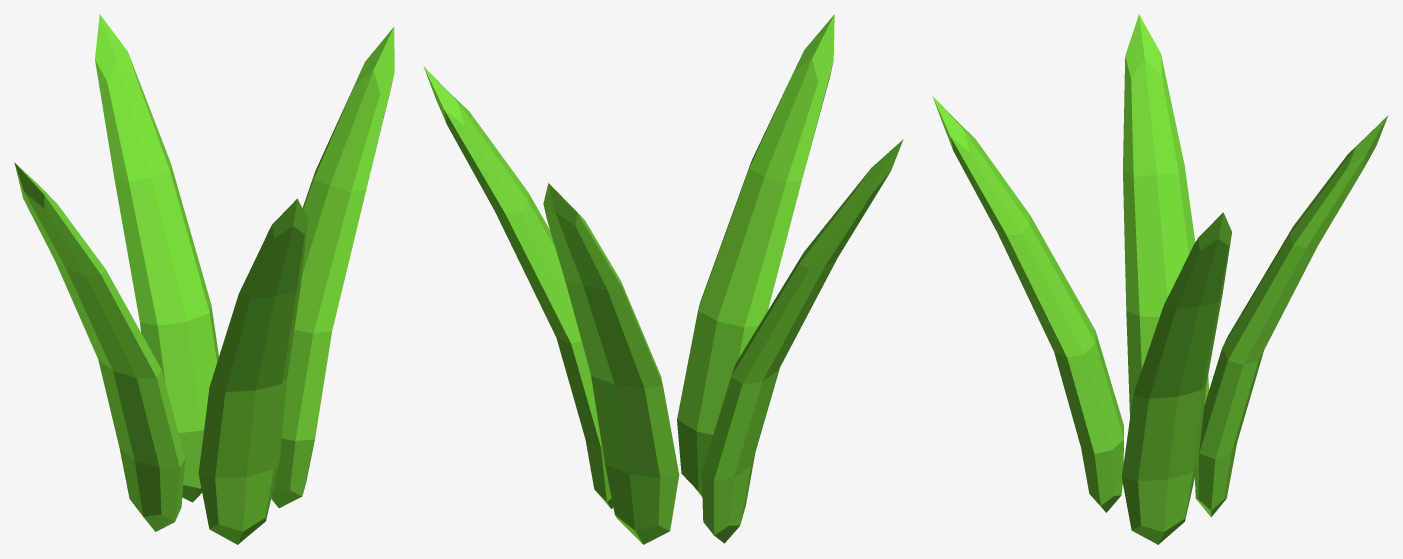
File: Grass.fbx
3 renders of one model, left to right at view 1: azimuth 30°, elevation 25°; view 2: azimuth 150°, elevation 25°; view 3: azimuth 270°, elevation 25°, orthographic. The views are drawn at different scales.
Visible parts, largest first — view 1: Cube.021; view 2: Cube.021; view 3: Cube.021.
Boxes of the visible parts, box(x1,y1,x2,y2) form: Cube.021: box(14, 14, 394, 544); Cube.021: box(423, 14, 903, 544); Cube.021: box(932, 14, 1388, 544).
Bounding box in the file's own units: 217 × 206 × 212.
